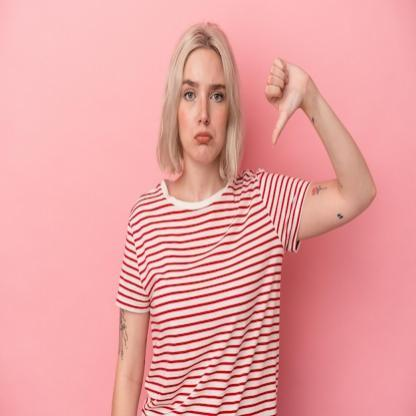thumb_down: (264, 52, 308, 150)
